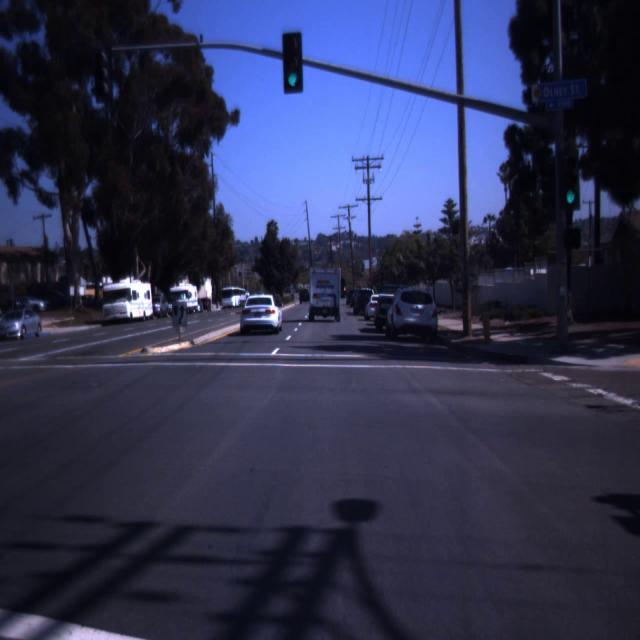yesil: (558, 146, 580, 209), (283, 33, 303, 94)
